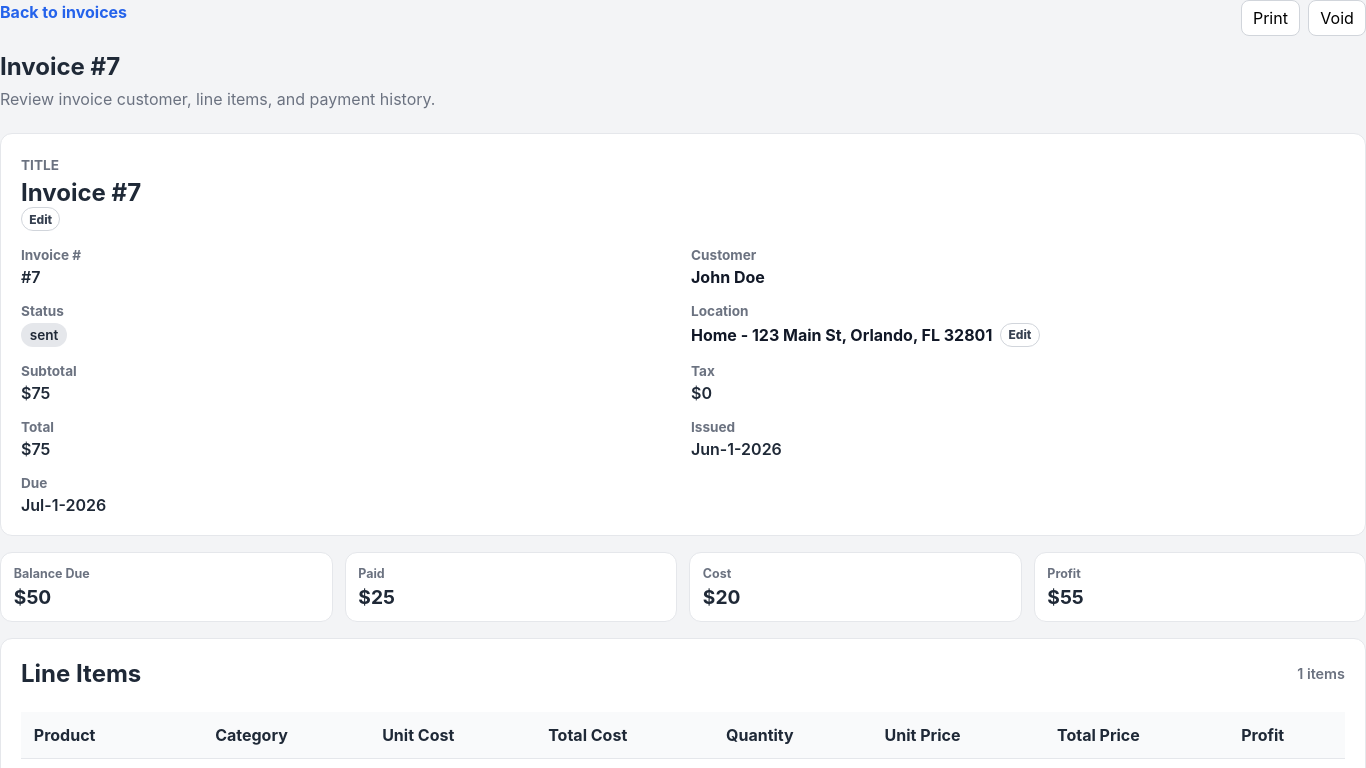
InvoiceDetailPage › updates the invoice location from invoice detail
Click the button with aria-label "Edit invoice location" at (1020, 335), box [1000,323,1040,347]
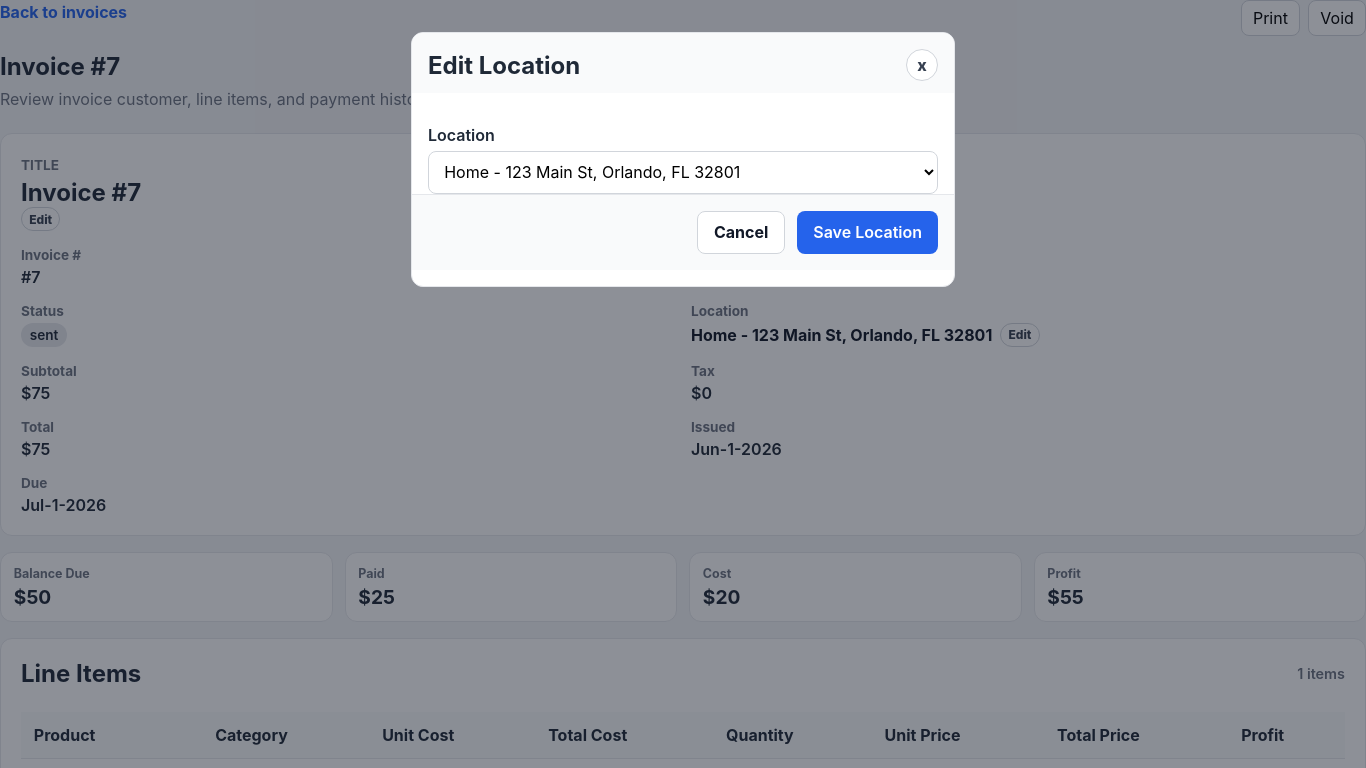
Expected: the dropdown labelled "Location" shows "Home - 123 Main St, Orlando, FL 32801"
Select "Office - 456 Office Rd, Orlando, FL 32801" in the dropdown labelled "Location" at (683, 172), box [428,151,938,194]
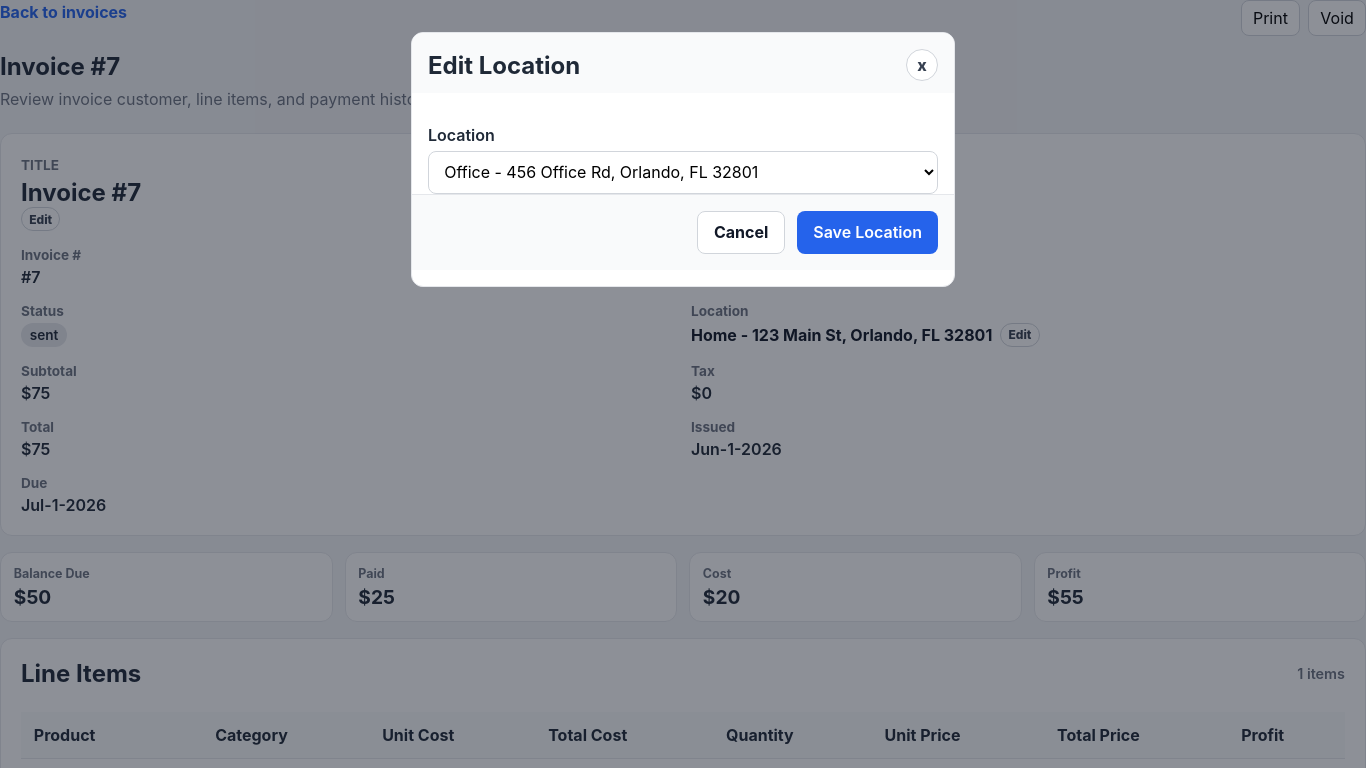
Click the button "Save Location" at (868, 232), box [797,211,938,254]
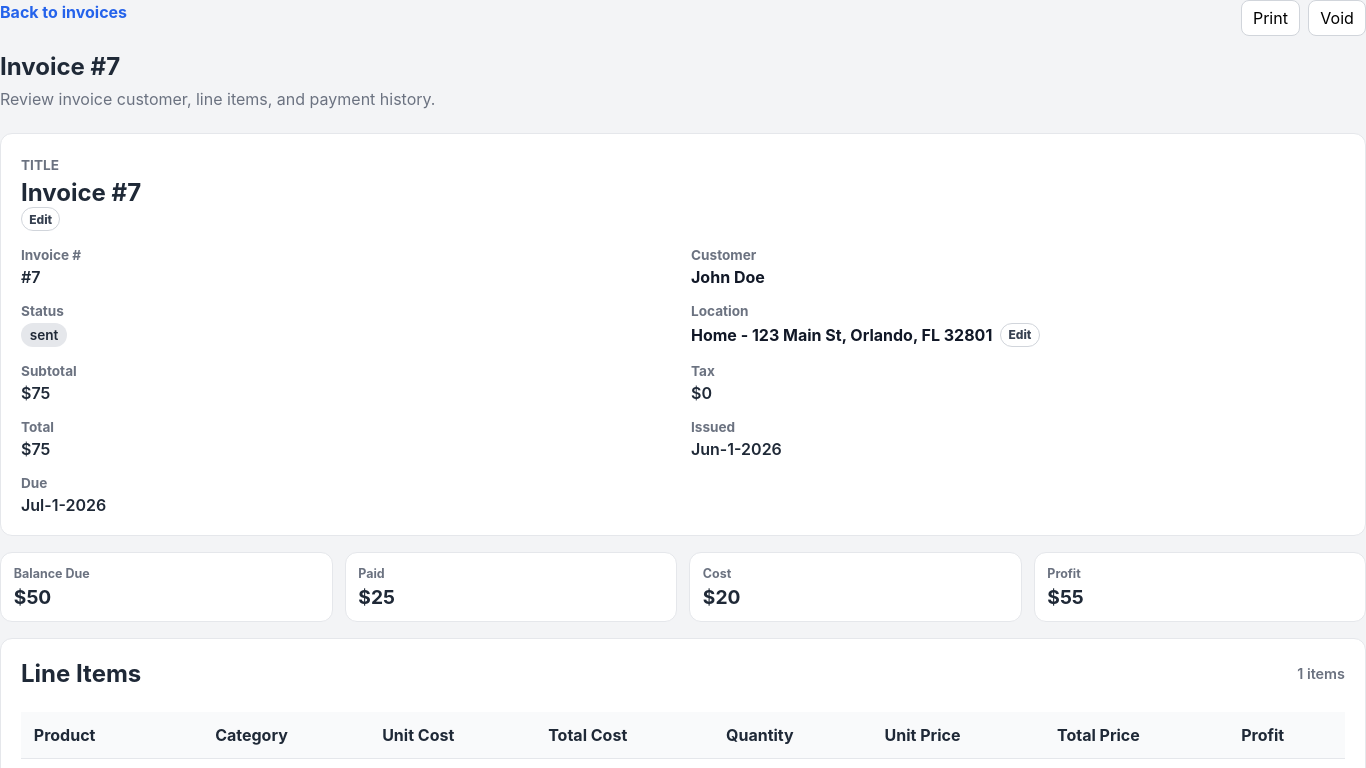
Expected: the heading "Edit Location" is gone
